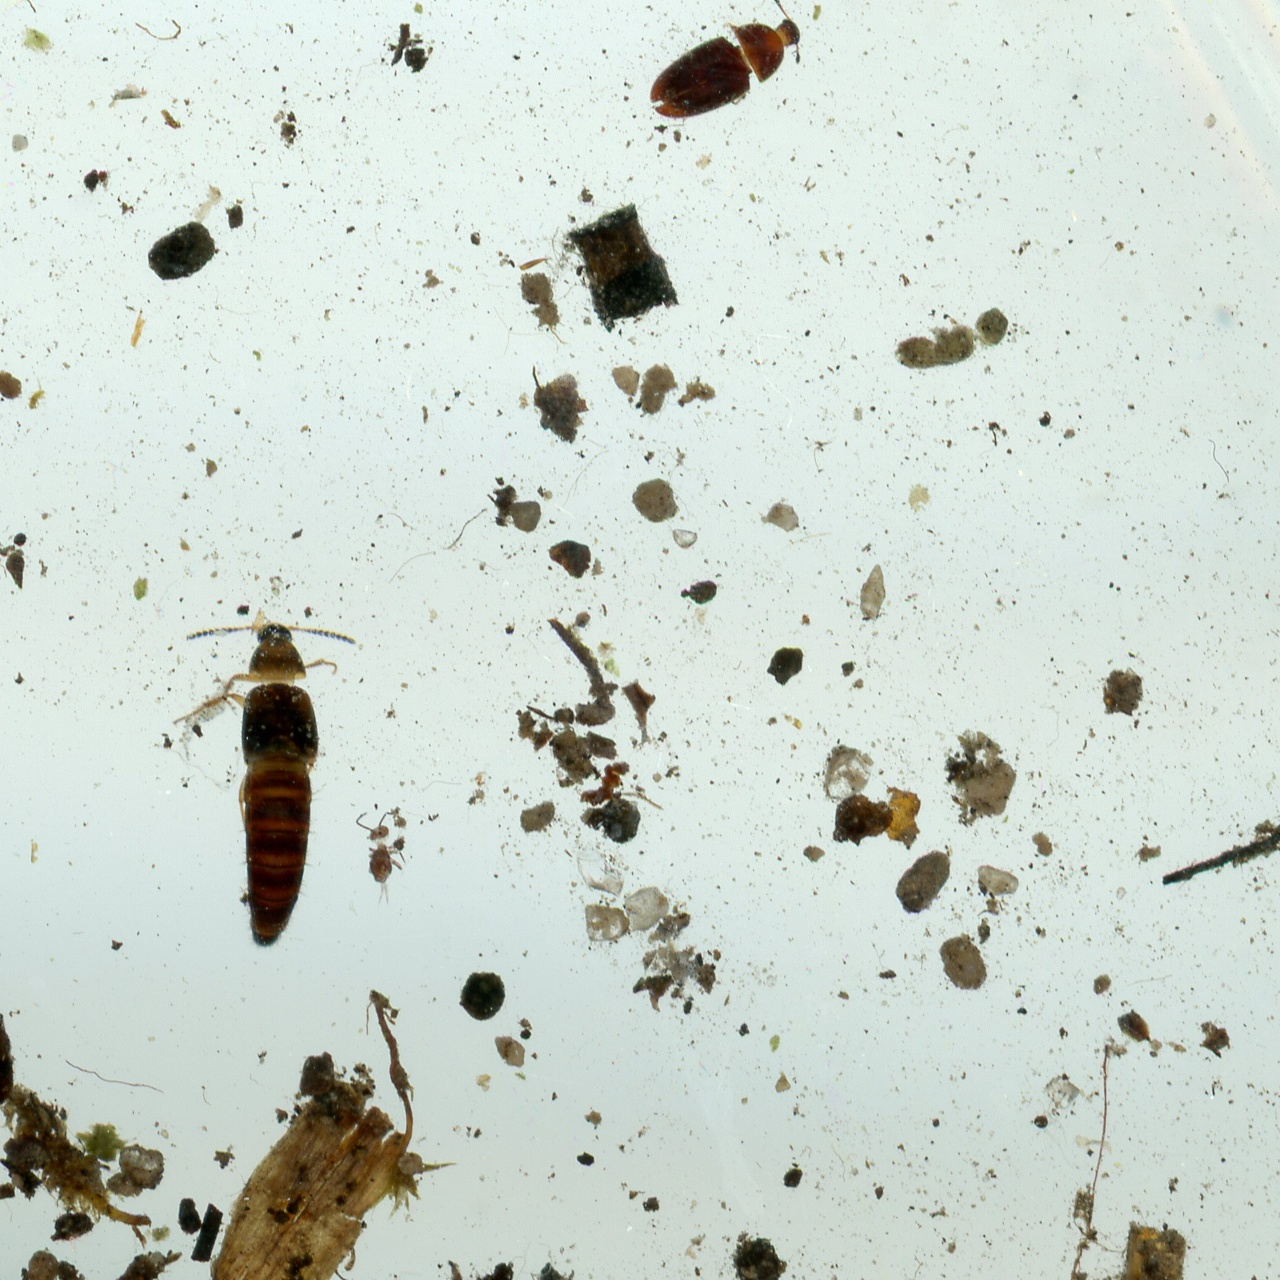arthropod: (170, 619, 361, 959), (186, 617, 356, 952), (624, 0, 822, 144), (649, 0, 803, 118), (355, 810, 408, 907), (356, 810, 406, 905)
